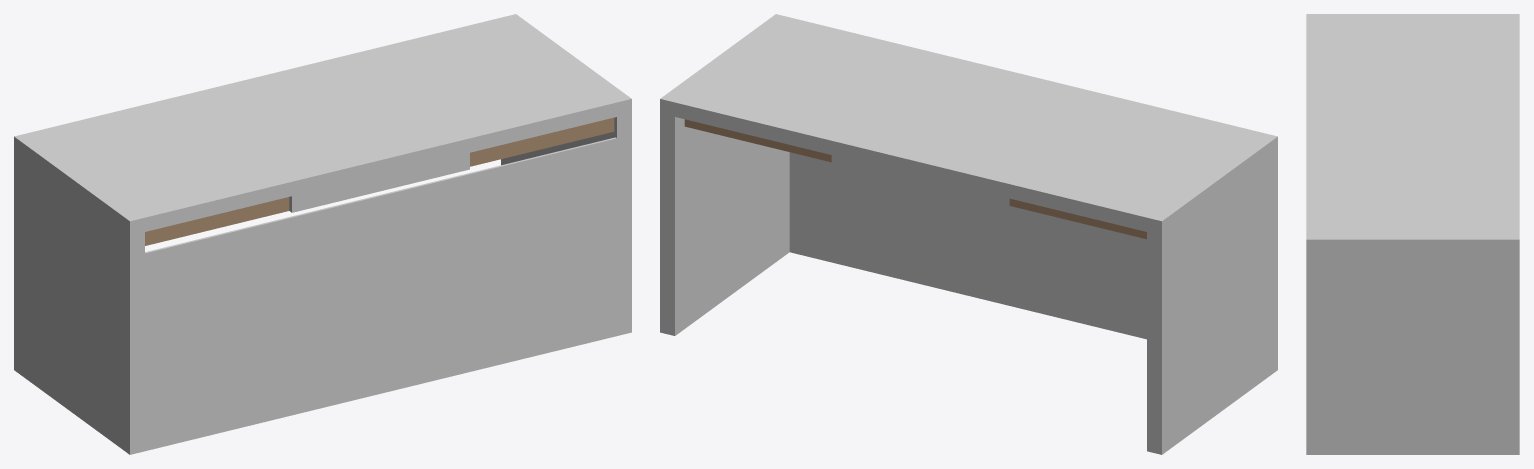
File: desk.glb
The picture shows the model from 3 angles, left to right: view 1: azimuth 30°, elevation 25°; view 2: azimuth 150°, elevation 25°; view 3: azimuth 270°, elevation 25°; orthographic projection. The views are drawn at different scales.
Visible parts, largest first — view 1: Cube; view 2: Cube; view 3: Cube.
Part boxes in pixels (x1,y1,x2,y2): Cube: (14,14,631,454); Cube: (660,14,1277,454); Cube: (1306,14,1519,454).
Size of the model in its own units: 1.8 by 0.8006 by 0.72.
